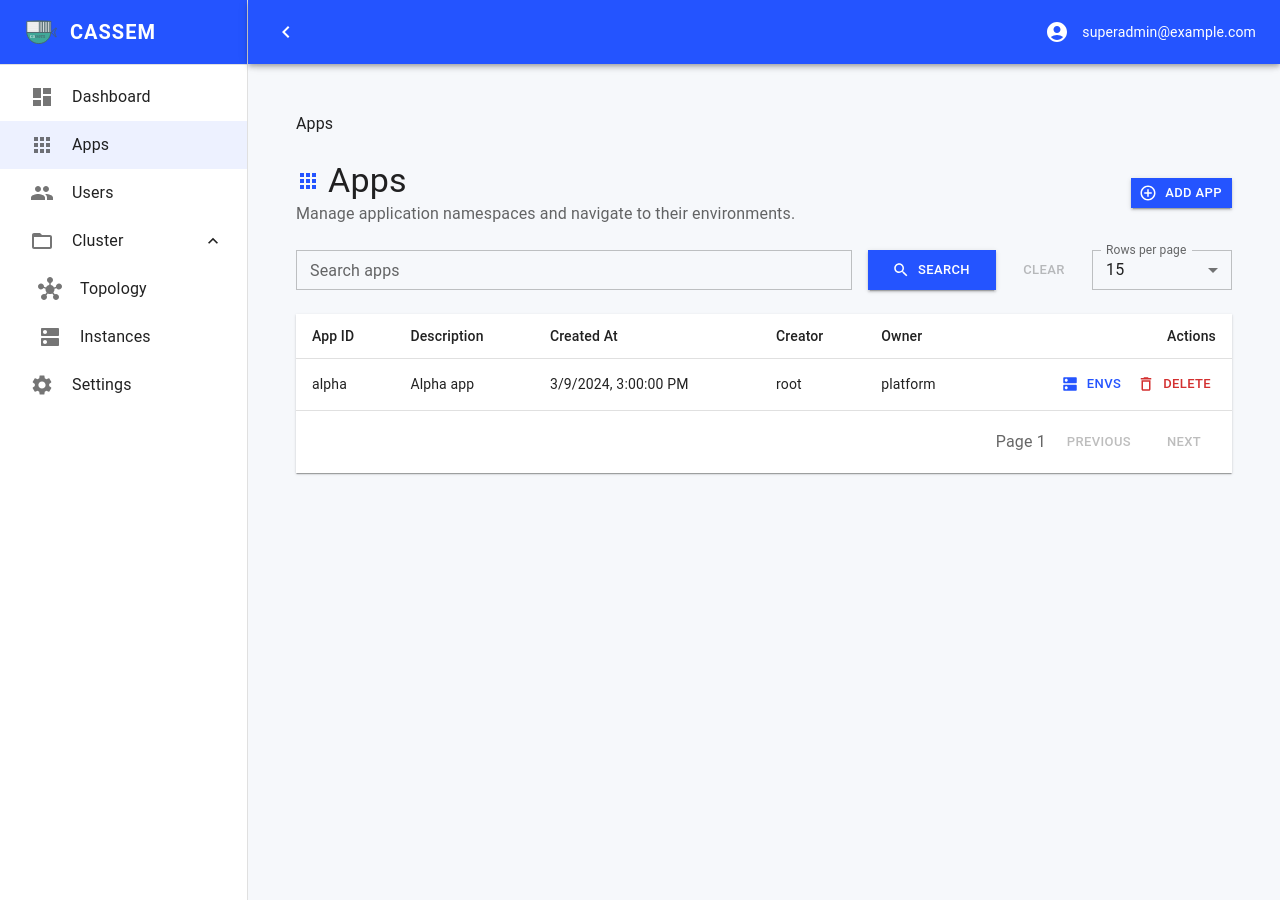
Test case: app shell routing › paginates, searches, and renders app metadata columns
The image size is (1280, 900).
expect the text "alpha" is shown: met, box [296,358,394,410]
expect the column heading "App ID" is shown: met, box [296,314,394,358]
Type "demo" into the field labelled "Search apps". click: (574, 270)
box: [296,250,852,290]
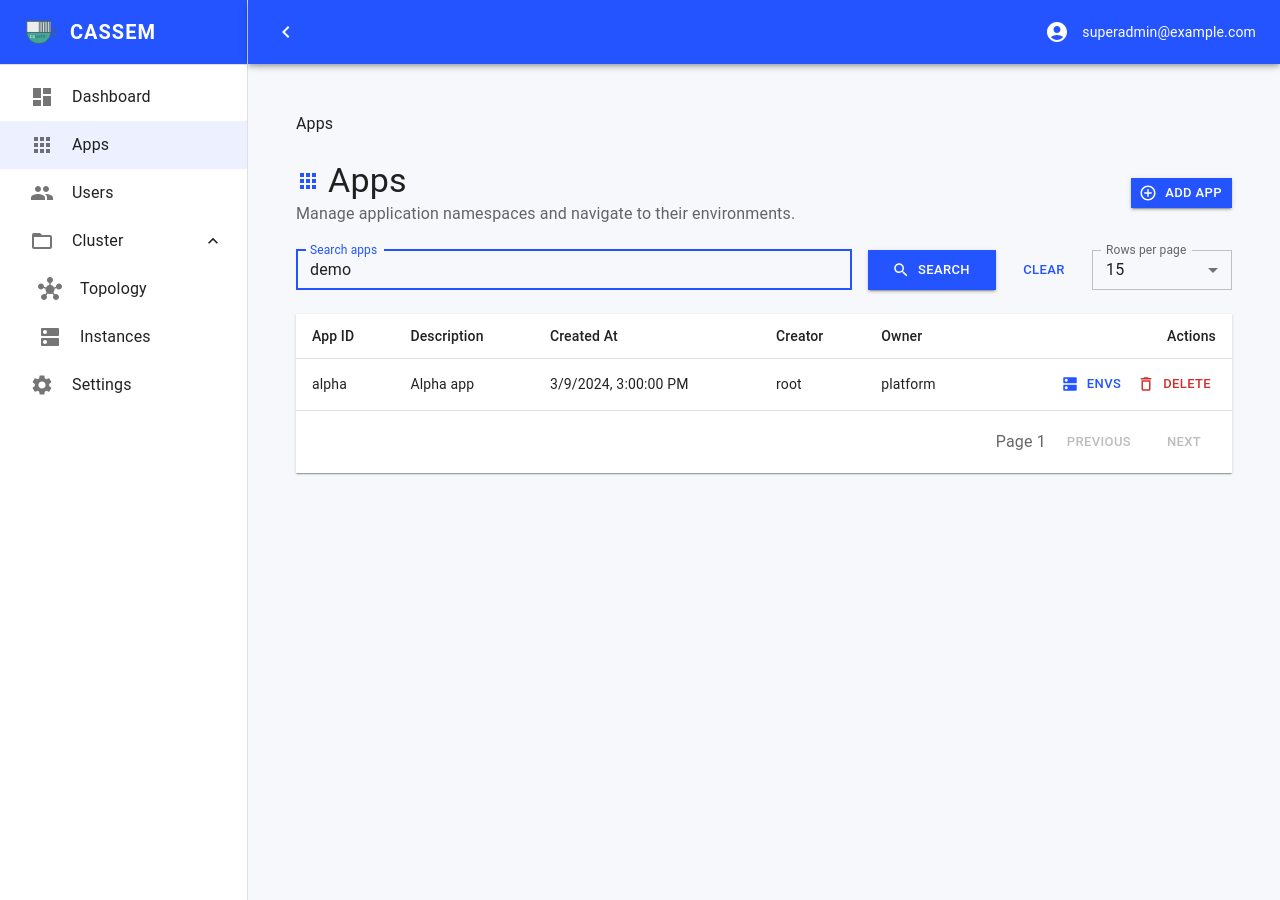
Click the button "Search". click: (932, 270)
box: [868,250,996,290]
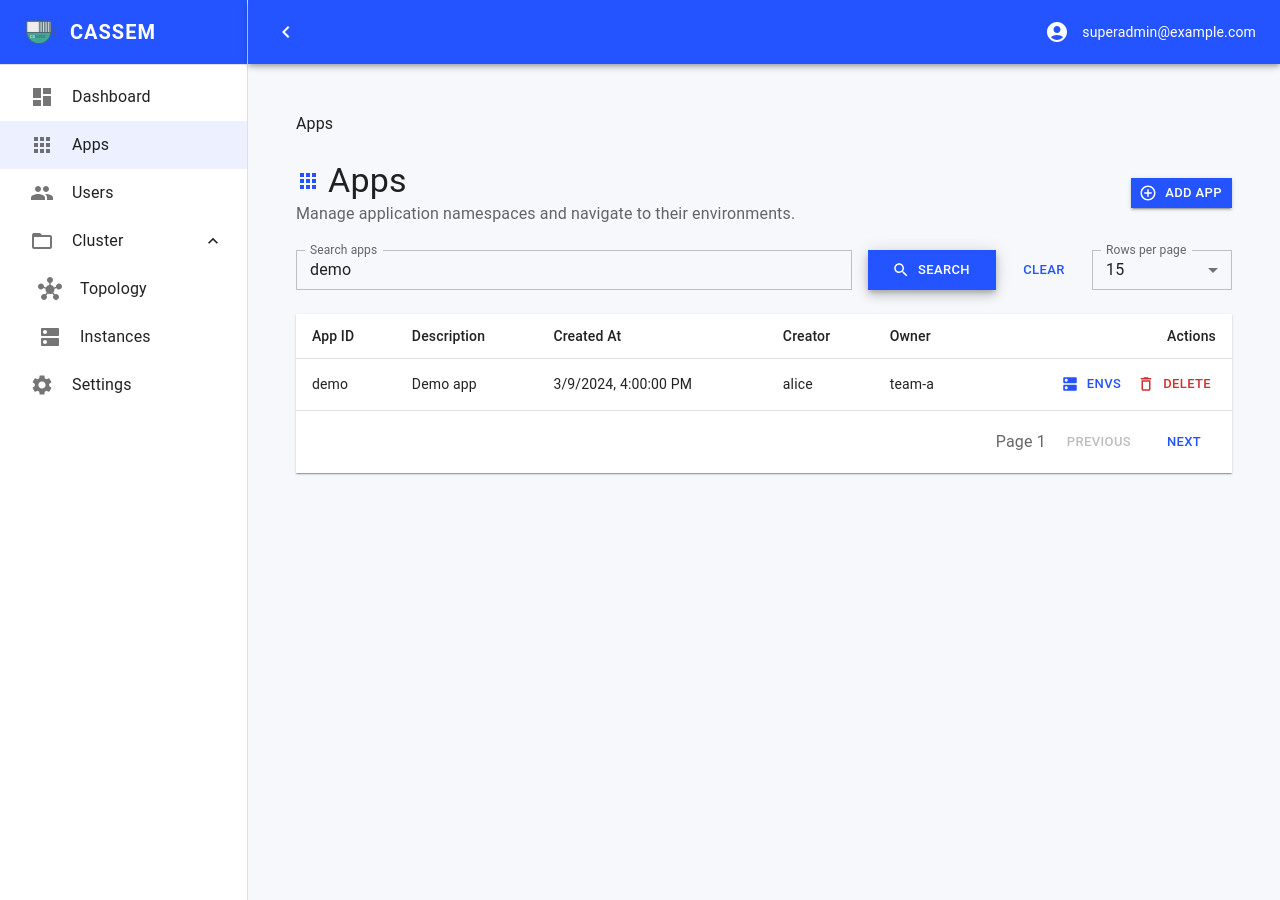
expect the text "demo" is shown: met, box [296,358,396,410]
expect the text "alice" is shown: met, box [767,358,874,410]
expect the text "team-a" is shown: met, box [874,358,976,410]
Click the button "Next". click: (1184, 442)
box: [1152,427,1216,458]
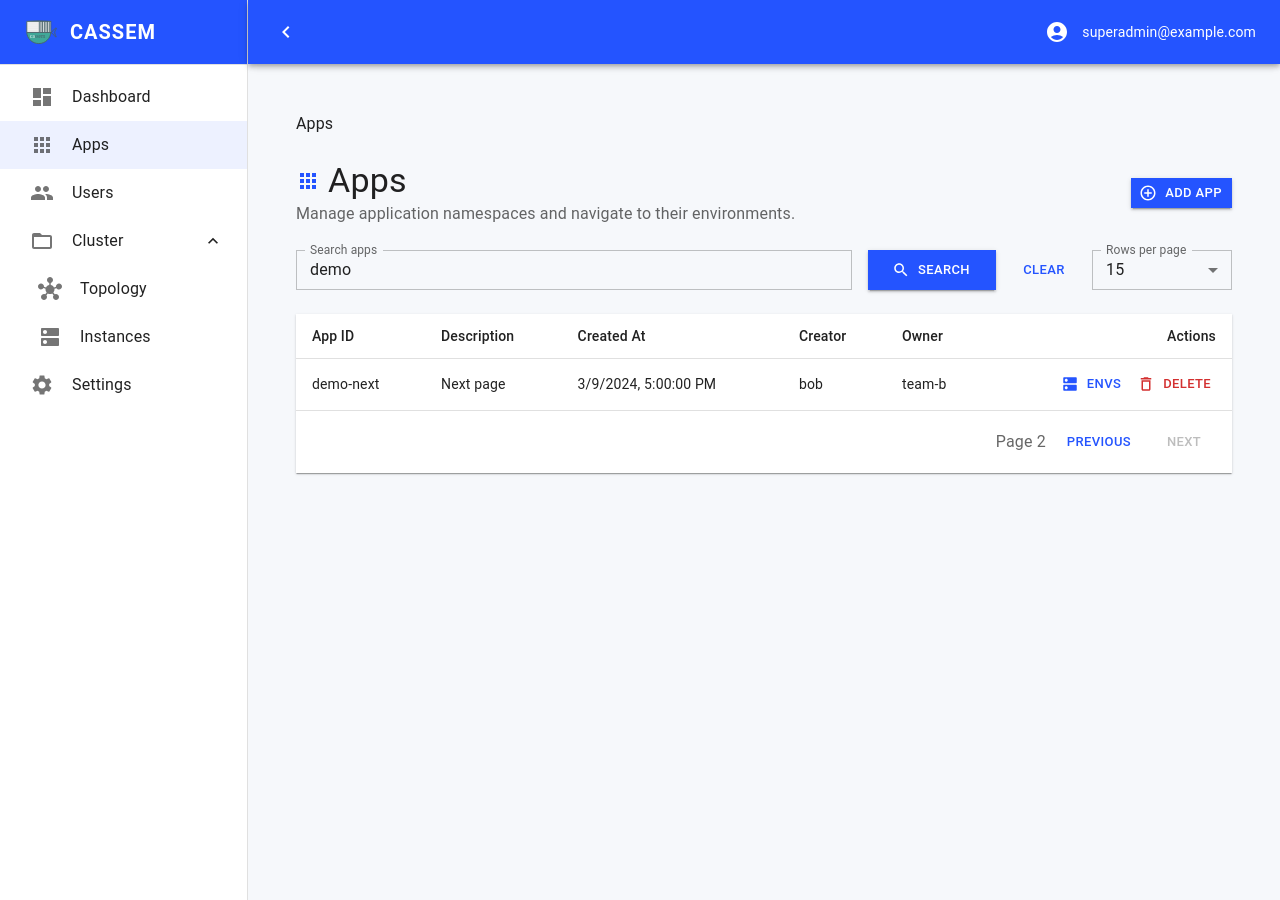
expect the text "demo-next" is shown: met, box [296,358,425,410]
Click the button "Previous". click: (1099, 442)
box: [1062,427,1136,458]
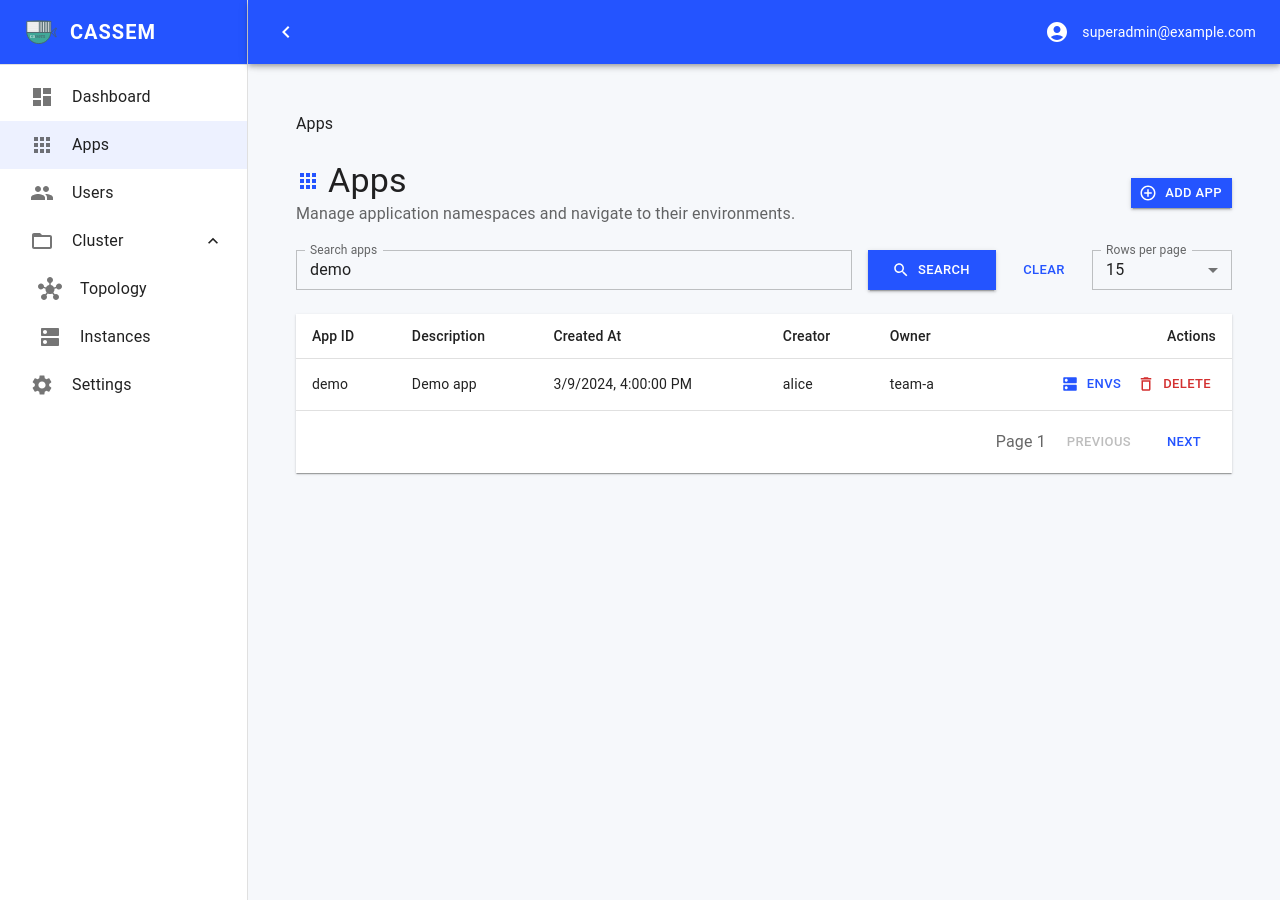
expect the text "demo" is shown: met, box [296,358,396,410]
Click the dropdown named "rows per page". click: (1115, 270)
box: [1106,260,1124,280]
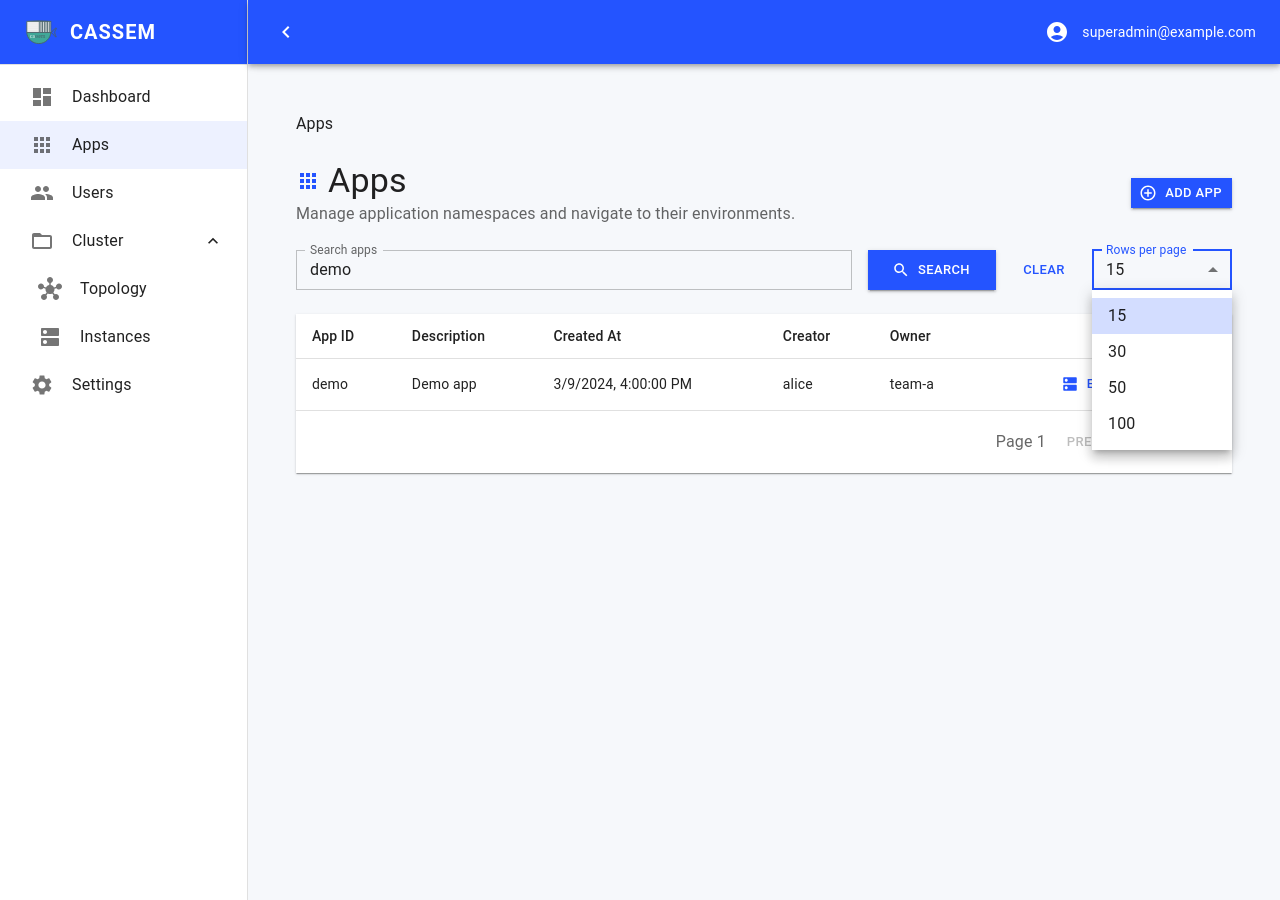
Click the option "30". click: (1117, 352)
box: [1108,342,1126,361]
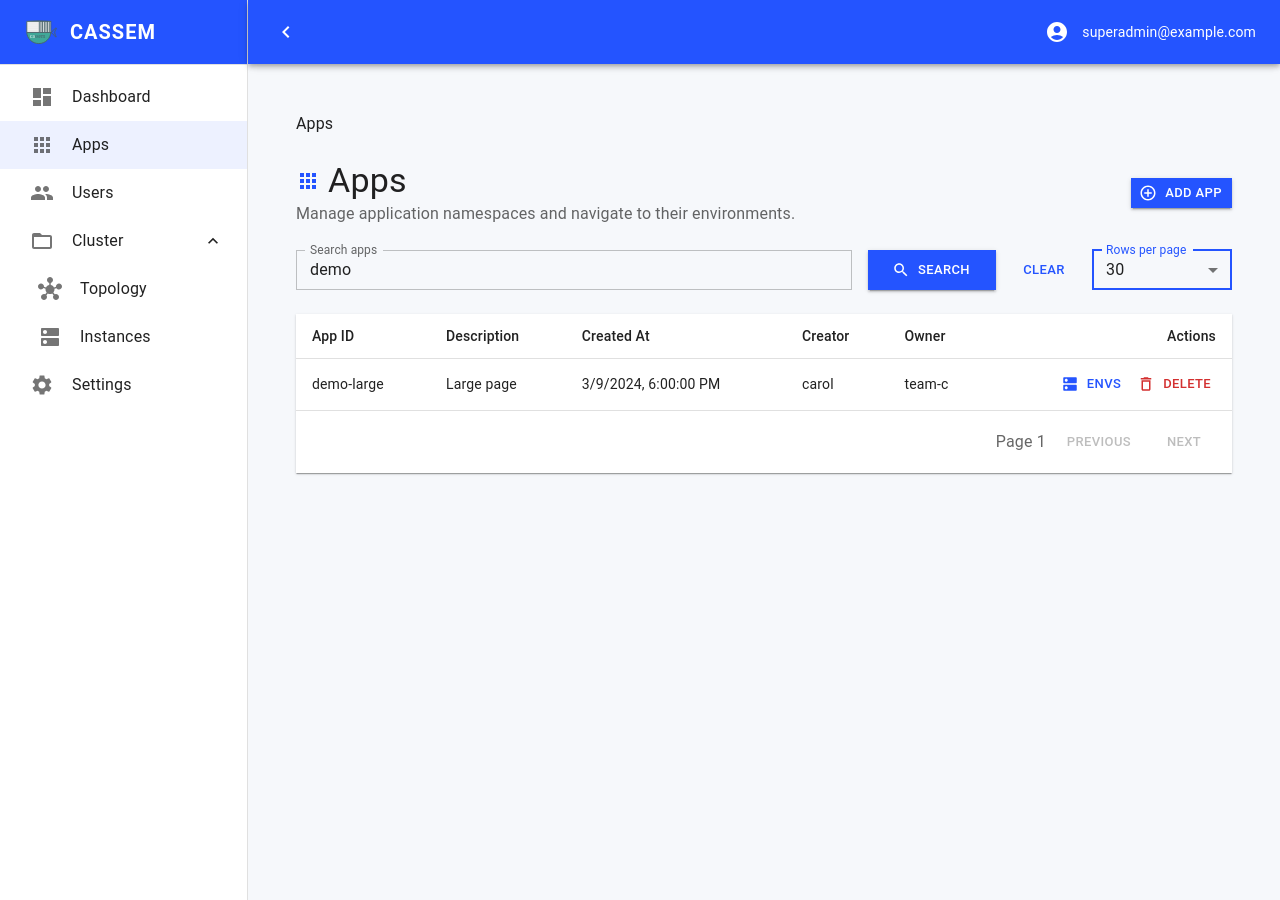
expect the text "demo-large" is shown: met, box [296,358,430,410]
